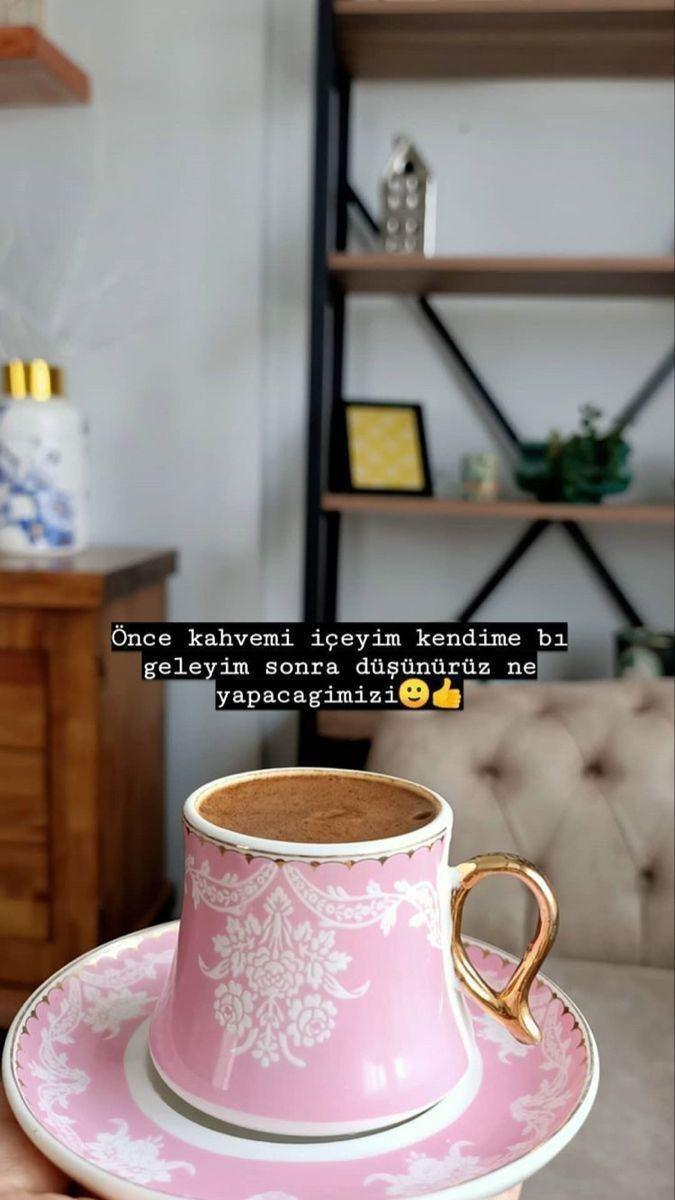cup-handle: (145, 764, 560, 1140)
